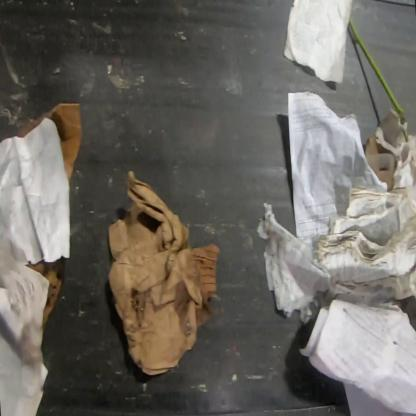cardboard: (108, 170, 219, 375), (14, 101, 84, 188), (26, 257, 66, 339)
